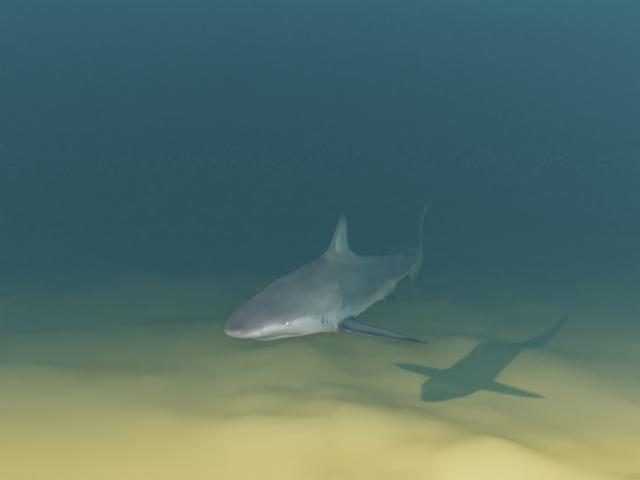Carribean Shark.001: (224, 194, 433, 344)
